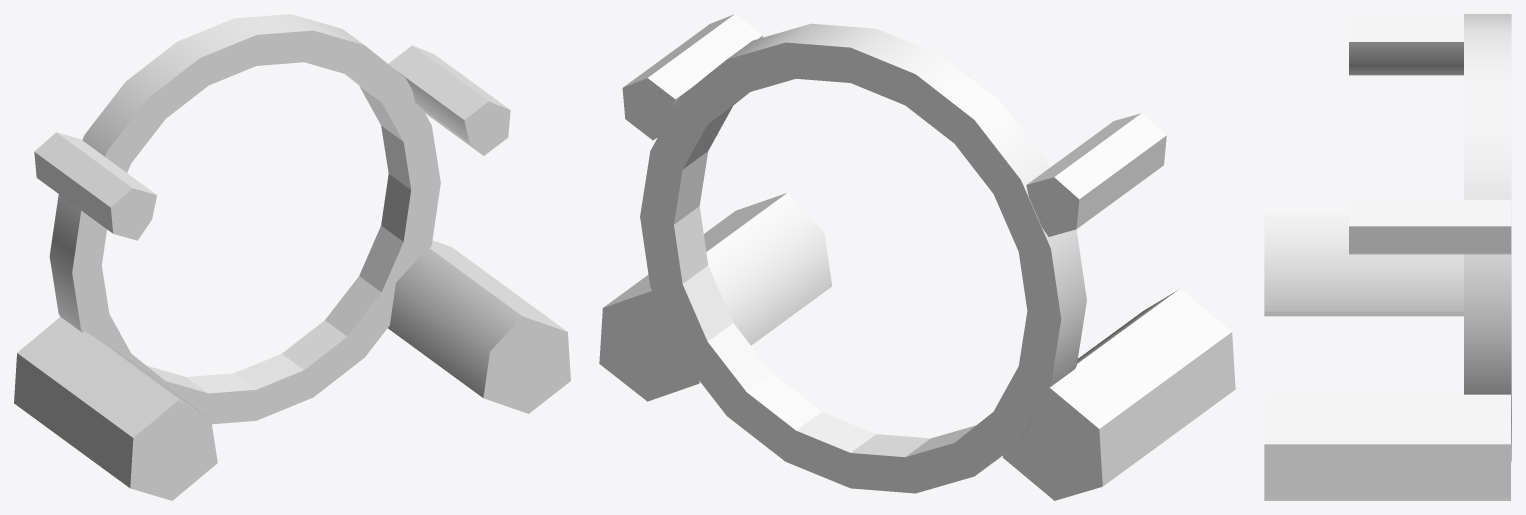
File: gunHolder.fbx
3 renders of one model, left to right at view 1: azimuth 30°, elevation 25°; view 2: azimuth 150°, elevation 25°; view 3: azimuth 270°, elevation 25°, orthographic. The views are drawn at different scales.
Parts seen in each view (by area): view 1: gunholder; view 2: gunholder; view 3: gunholder.
Boxes of the visible parts, left/top/right/bottom form: gunholder: left=14, top=14, right=570, bottom=500; gunholder: left=599, top=14, right=1235, bottom=500; gunholder: left=1264, top=14, right=1511, bottom=500.
Size of the model in its own units: 239 by 200 by 110.
Materials: 1 (1 with a texture image).
